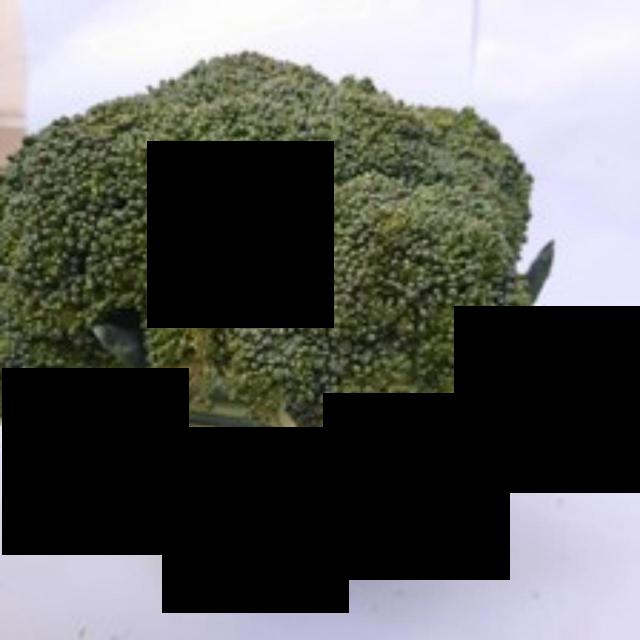broccoli: (1, 44, 559, 552)
